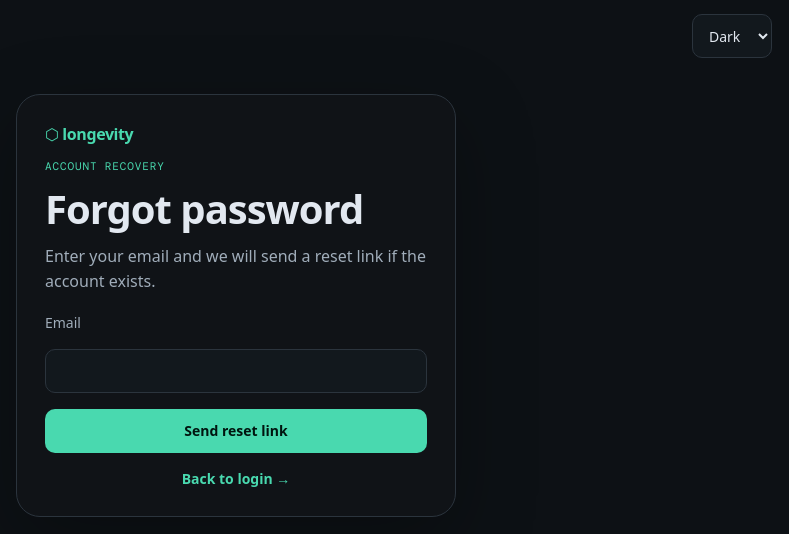
forgot password route › requests a reset link and shows the generic completion message
In the field labelled "Email": (236, 371) x1=45 y1=349 x2=427 y2=393, type "person@example.com"
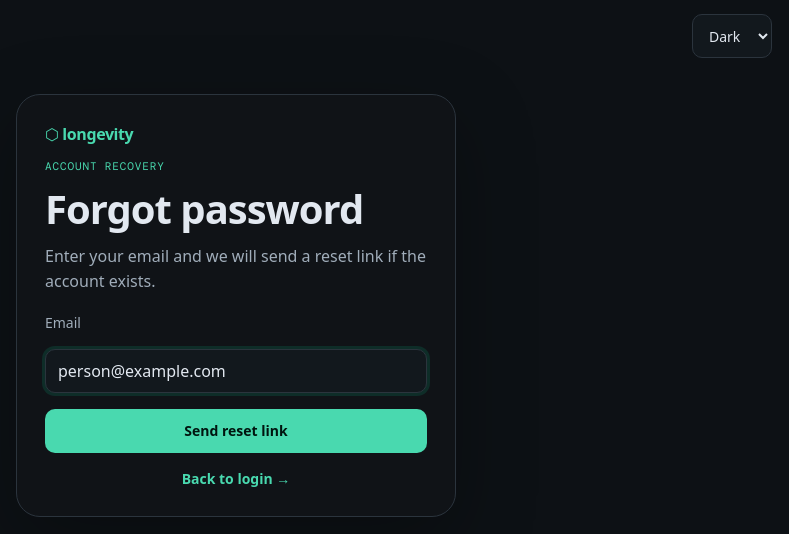
Click the button "Send reset link": (236, 431) x1=45 y1=409 x2=427 y2=453
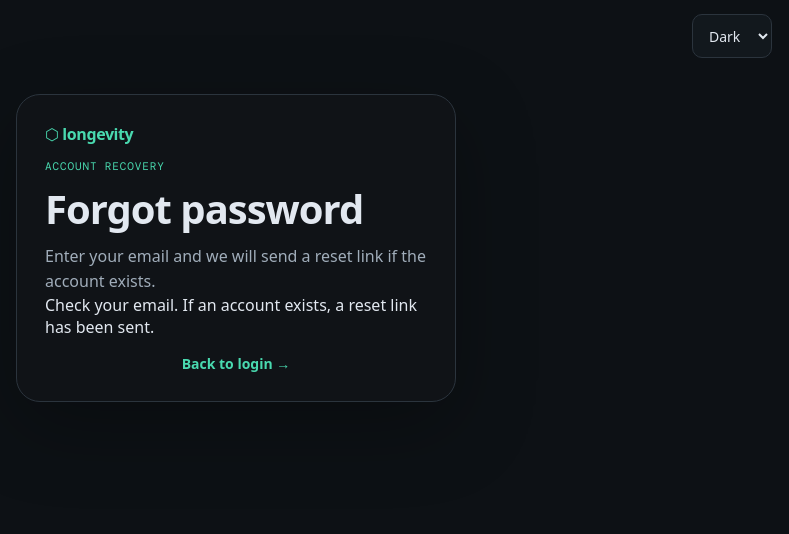
Check: the text "Check your email. If an account exists, a reset link has been sent." is shown, box x1=45 y1=294 x2=427 y2=338
